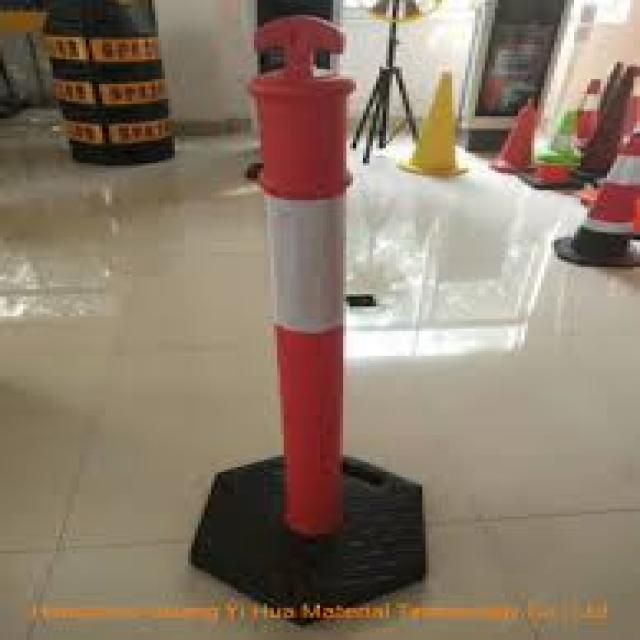bollard: (169, 0, 457, 620)
